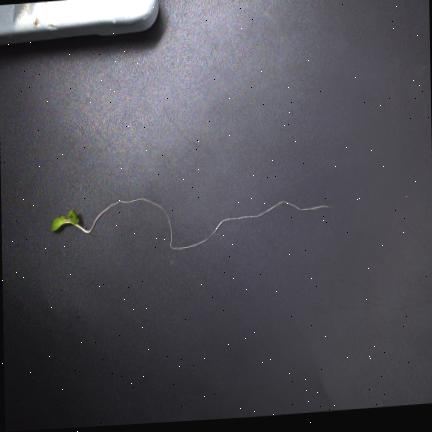leaf1: (52, 217, 68, 231)
leaf2: (69, 210, 79, 224)
root: (88, 199, 332, 250)
stem: (66, 219, 85, 232)
